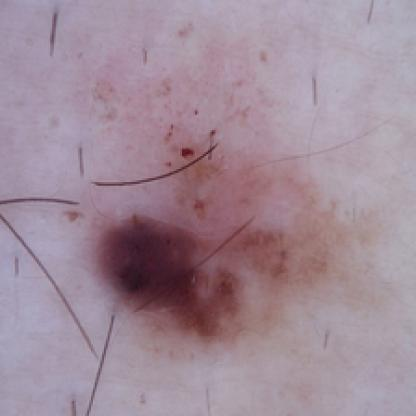Skin_Cancer-Malignant: (94, 212, 244, 342)
